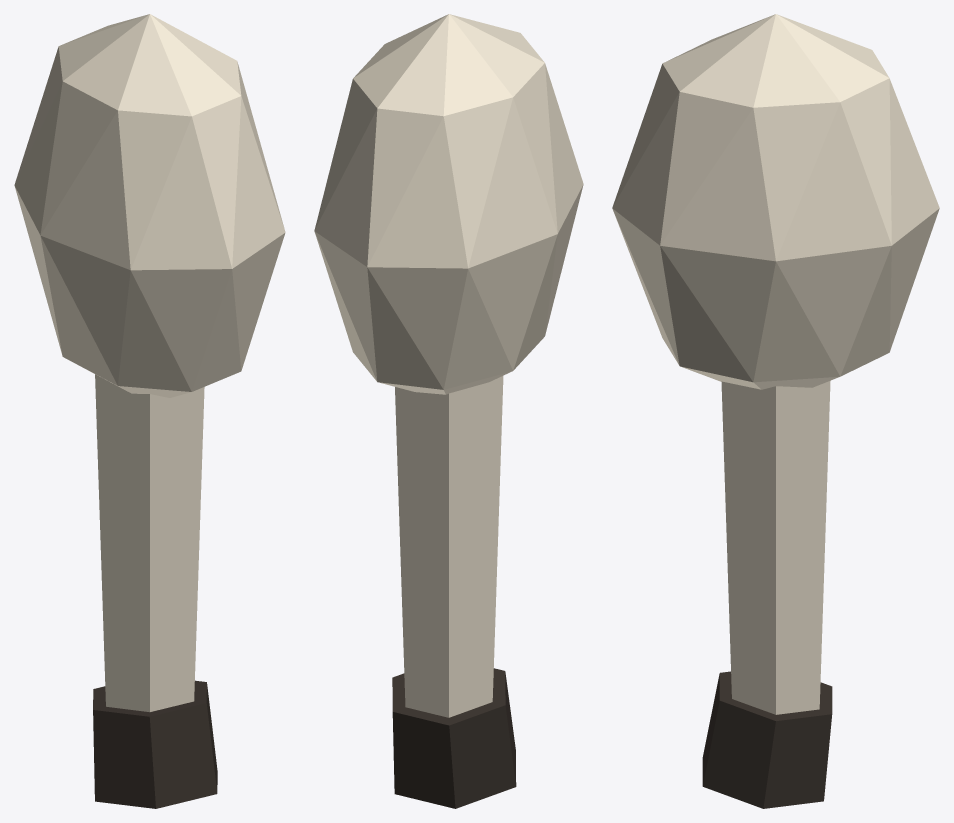
File: calf_0_leg_br.glb
3 renders of one model, left to right at view 1: azimuth 30°, elevation 25°; view 2: azimuth 150°, elevation 25°; view 3: azimuth 270°, elevation 25°, orthographic.
Parts seen in each view (by area): view 1: calf_0_leg_br; view 2: calf_0_leg_br; view 3: calf_0_leg_br.
Boxes of the visible parts, x1,y1,x2,y2 form: calf_0_leg_br: [14, 14, 285, 808]; calf_0_leg_br: [314, 14, 583, 808]; calf_0_leg_br: [612, 14, 939, 808].
Bounding box in the file's own units: 0.128 × 0.4329 × 0.1664.
